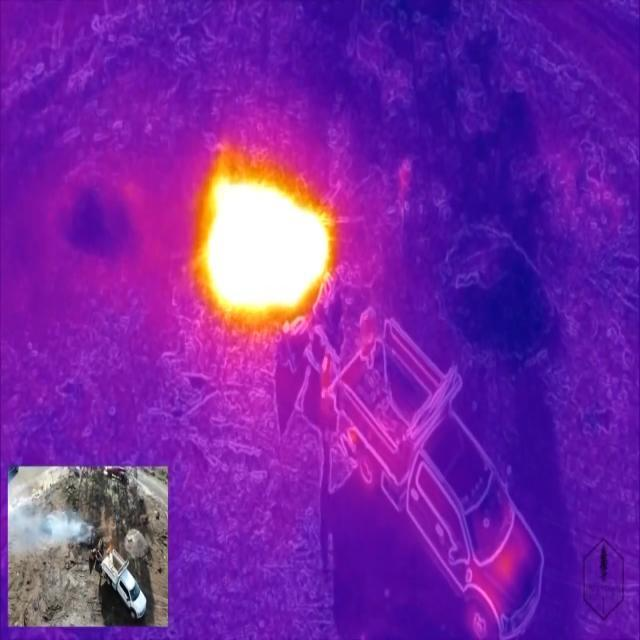fire: (196, 150, 338, 333)
